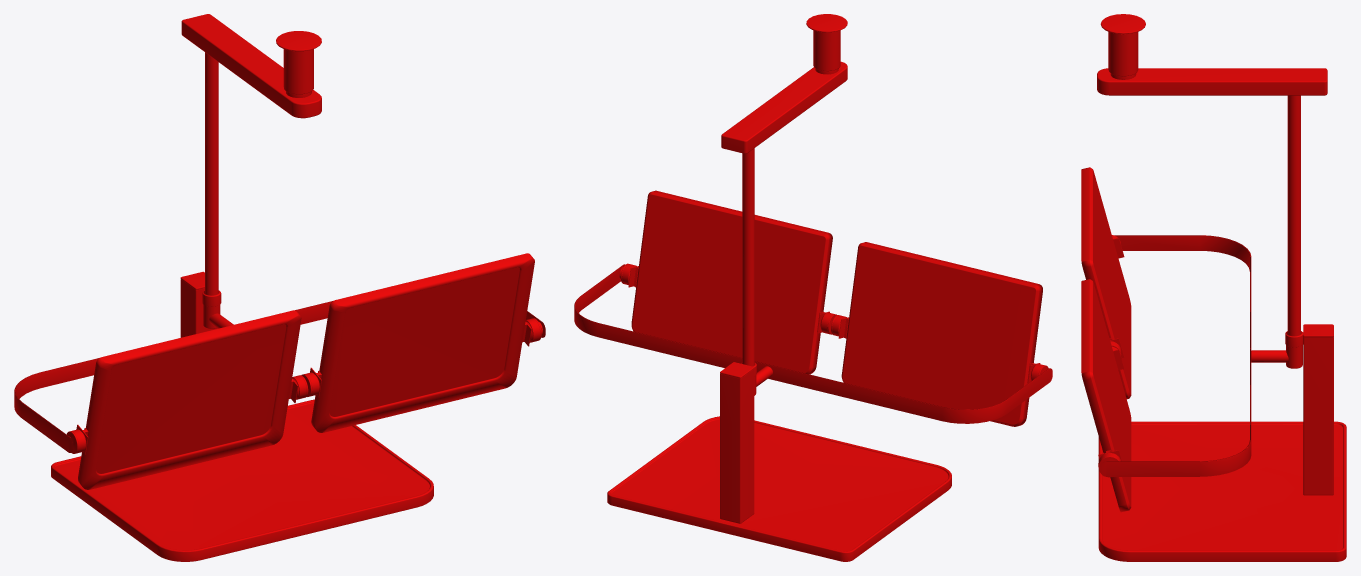
File: Equipment_33.fbx
The picture shows the model from 3 angles, left to right: view 1: azimuth 30°, elevation 25°; view 2: azimuth 150°, elevation 25°; view 3: azimuth 270°, elevation 25°; orthographic projection. The views are drawn at different scales.
Parts seen in each view (by area): view 1: polySurface18; view 2: polySurface18; view 3: polySurface18.
Boxes of the visible parts, x1,y1,x2,y2 form: polySurface18: (14, 14, 545, 561); polySurface18: (574, 14, 1052, 561); polySurface18: (1081, 14, 1346, 561).
Size of the model in its own units: 209 by 204 by 103.
